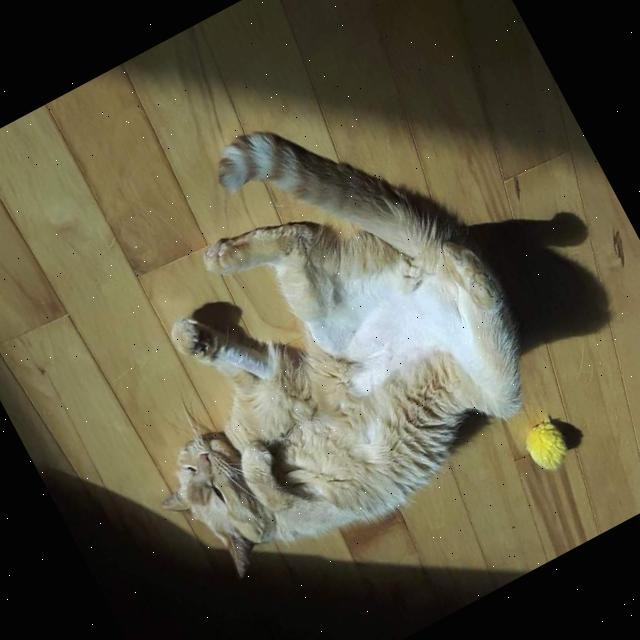cat-hairloss: (319, 253, 473, 402)
